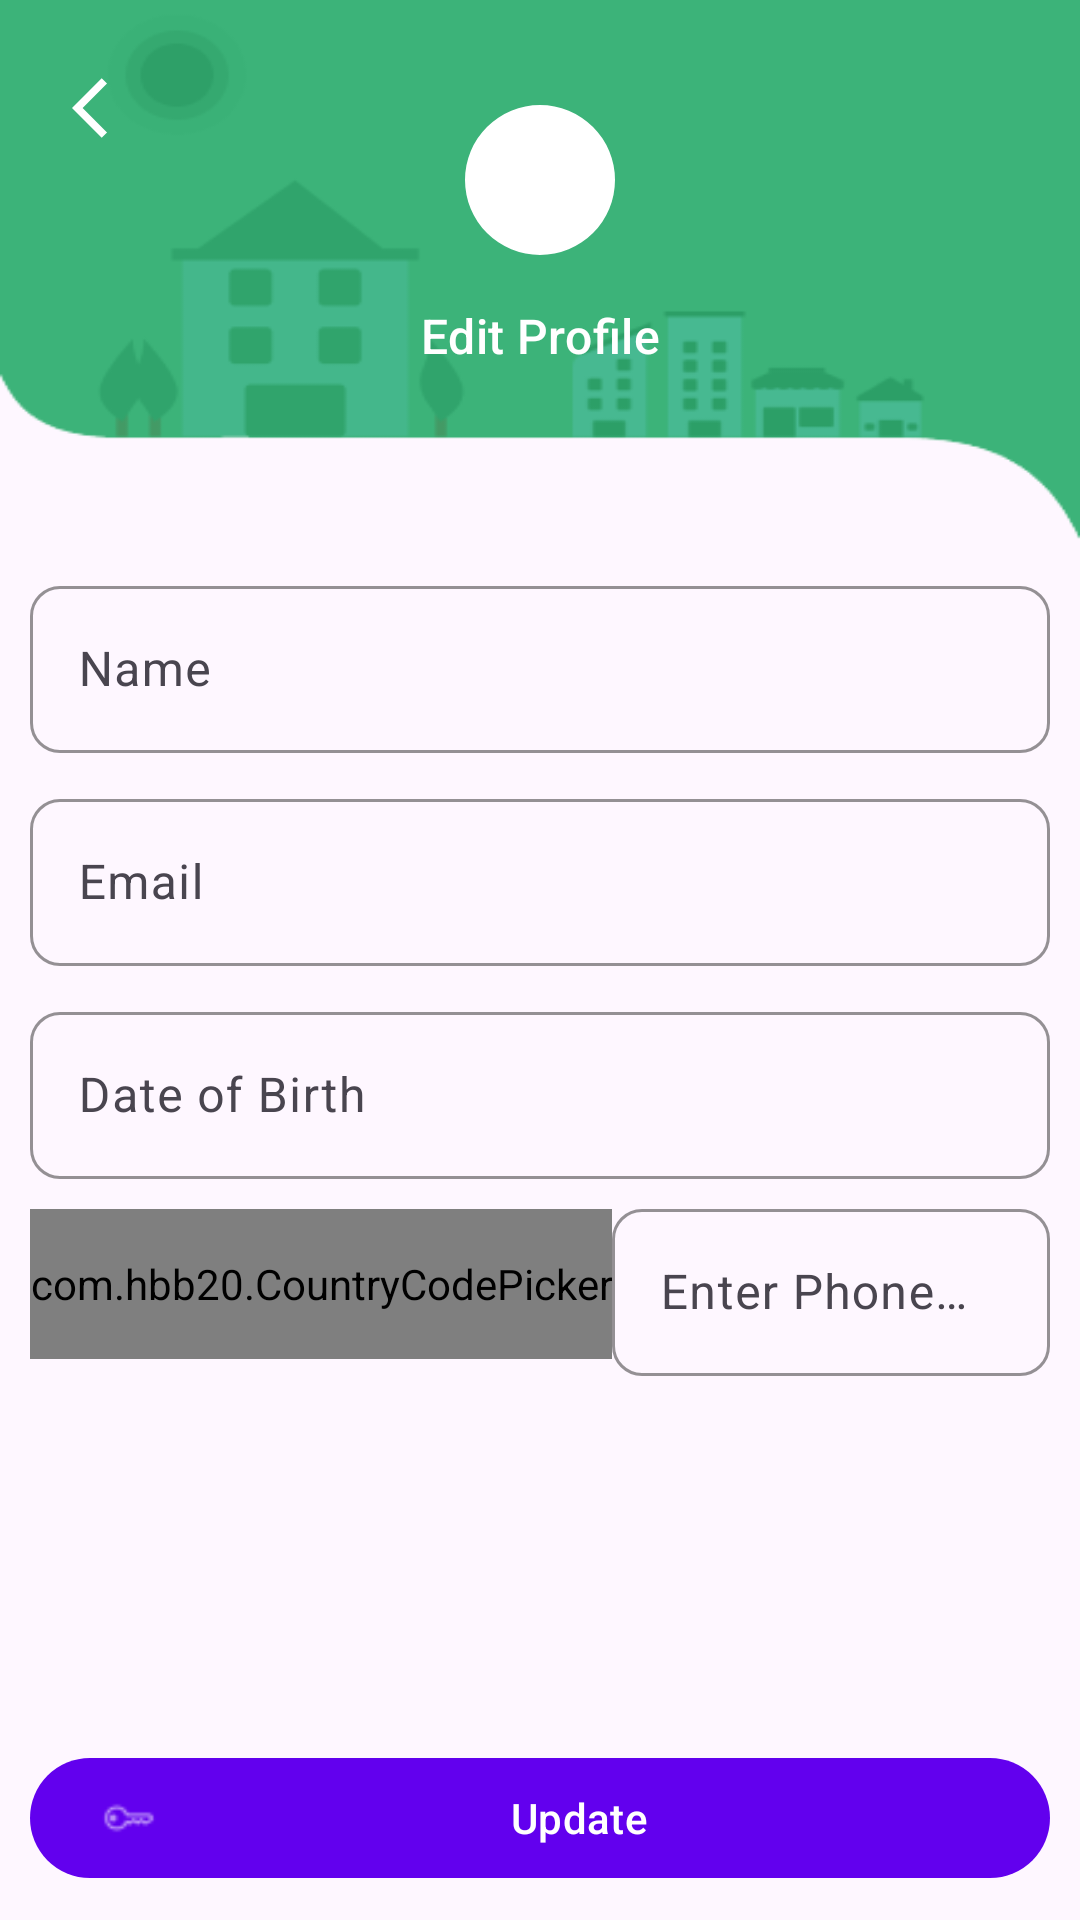

Locate icon controls on the screen. Image size 1080px x 1920px, boxes as bbox=(x1, y1, x2, y2).
back login page: bbox=(72, 78, 107, 138)
